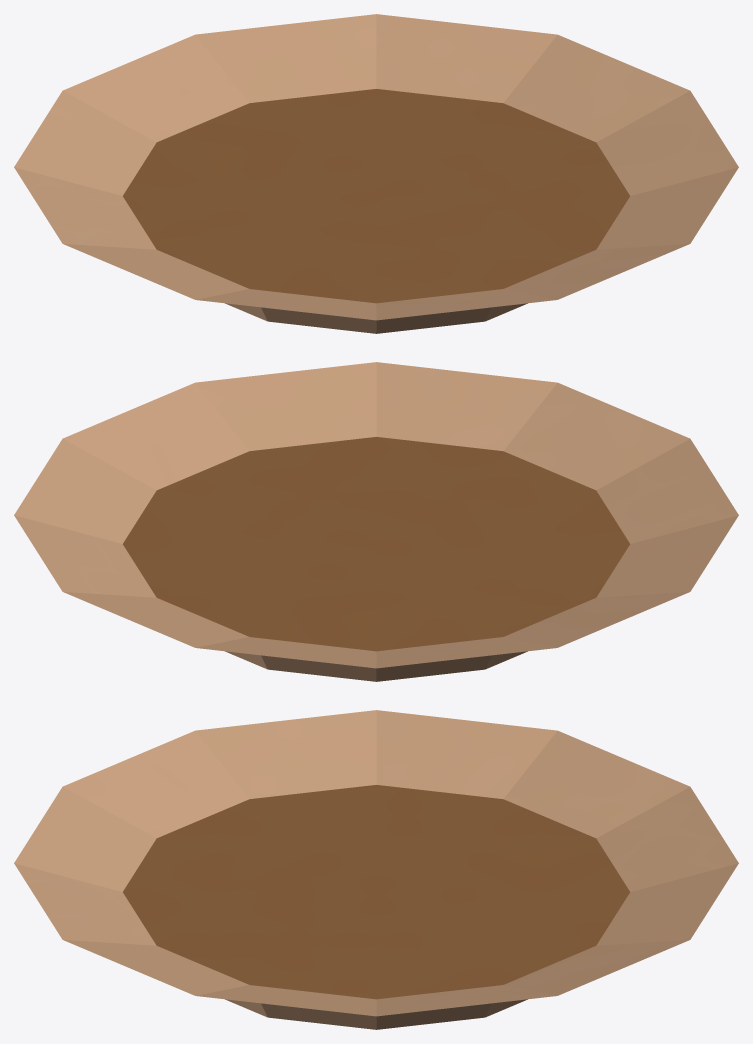
The model's file is Plate_01.fbx.
3 views of the same model, one above another, from view 1: azimuth 30°, elevation 25°; view 2: azimuth 150°, elevation 25°; view 3: azimuth 270°, elevation 25° (orthographic).
Parts seen in each view (by area): view 1: Plate_01; view 2: Plate_01; view 3: Plate_01.
Part boxes in pixels (box(x1,y1,x2,y2)): Plate_01: box(14, 14, 738, 333); Plate_01: box(14, 362, 738, 681); Plate_01: box(14, 710, 738, 1029).
Bounding box in the file's own units: 0.2734 × 0.0311 × 0.2734.
